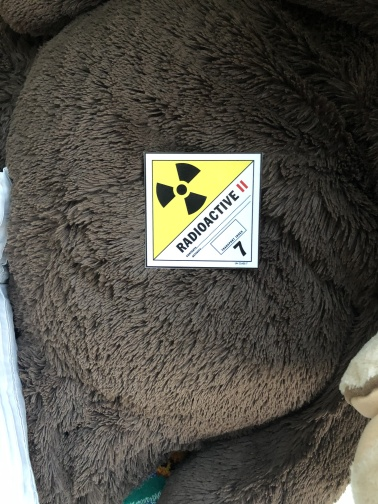Radioactive: (145, 152, 262, 269)
